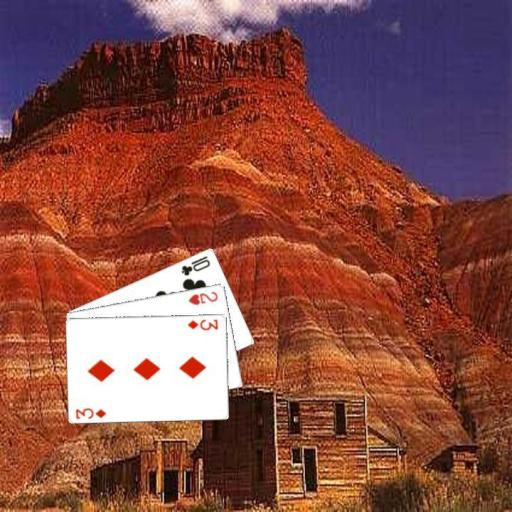10C: (178, 253, 212, 277)
2H: (186, 288, 220, 306)
3D: (184, 316, 220, 331), (73, 405, 108, 420)
